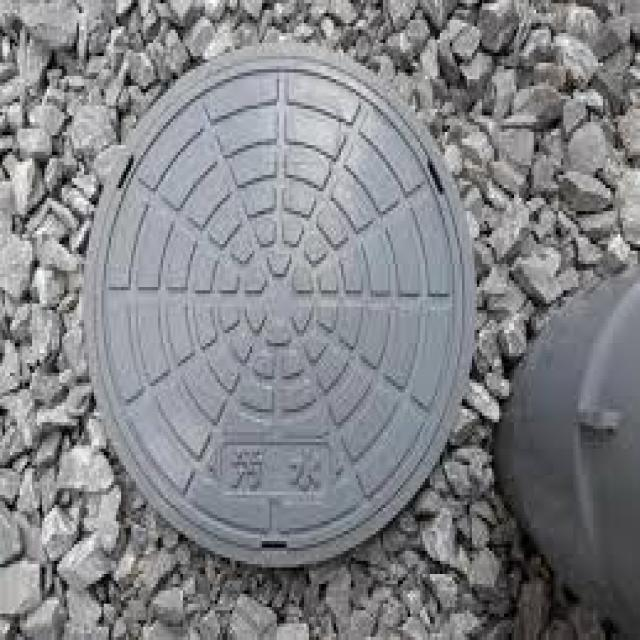Sewer Cover: (68, 26, 499, 622)
